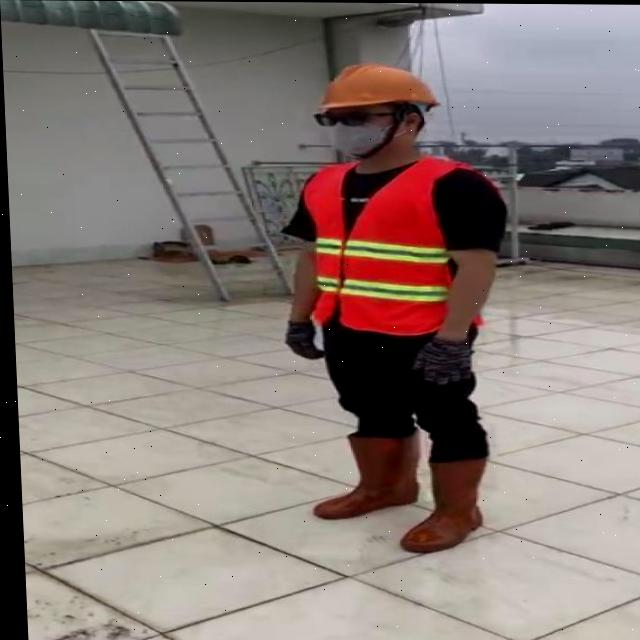Gloves: (405, 325, 475, 385), (280, 318, 321, 359)
Helmet: (311, 61, 439, 117)
Safety-Boot: (304, 425, 418, 519), (392, 452, 485, 551)
Safety-Vest: (283, 152, 503, 337)
